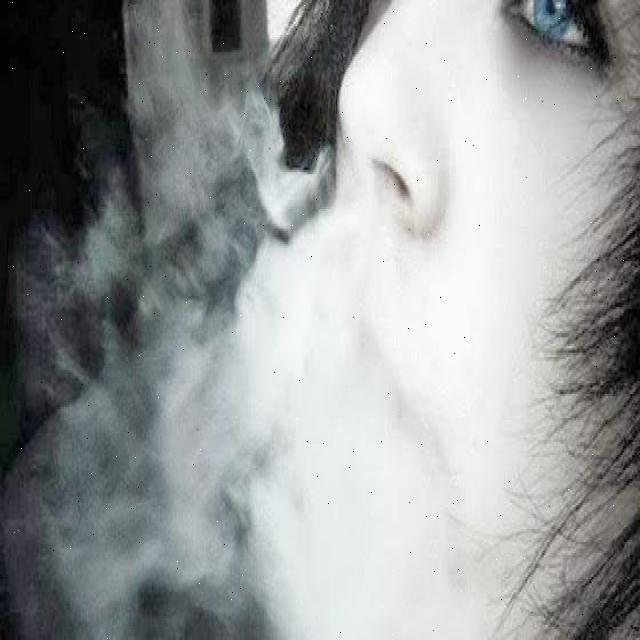smoke: (23, 245, 416, 631), (124, 2, 250, 229)
